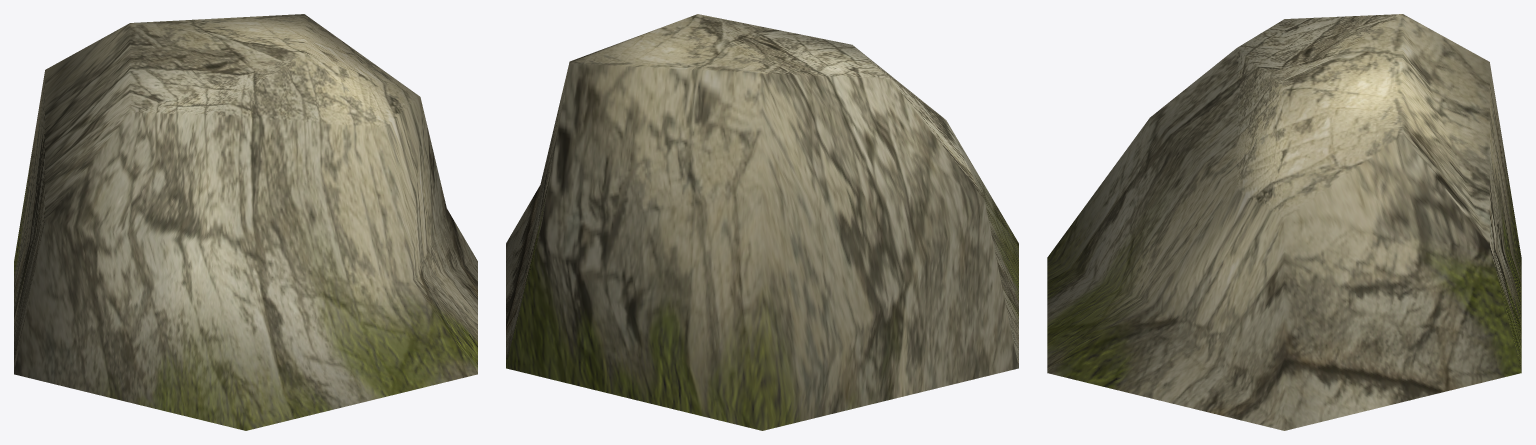
The model's file is rock2.fbx.
3 views of the same model, side by side, from view 1: azimuth 30°, elevation 25°; view 2: azimuth 150°, elevation 25°; view 3: azimuth 270°, elevation 25° (orthographic). The views are drawn at different scales.
Visible parts, largest first — view 1: pSphere2; view 2: pSphere2; view 3: pSphere2.
Part boxes in pixels (x1,y1,x2,y2): pSphere2: [14, 14, 477, 430]; pSphere2: [506, 14, 1018, 430]; pSphere2: [1047, 14, 1521, 430].
Size of the model in its own units: 5.93 by 3.26 by 5.14.
1 material, 1 textured.
